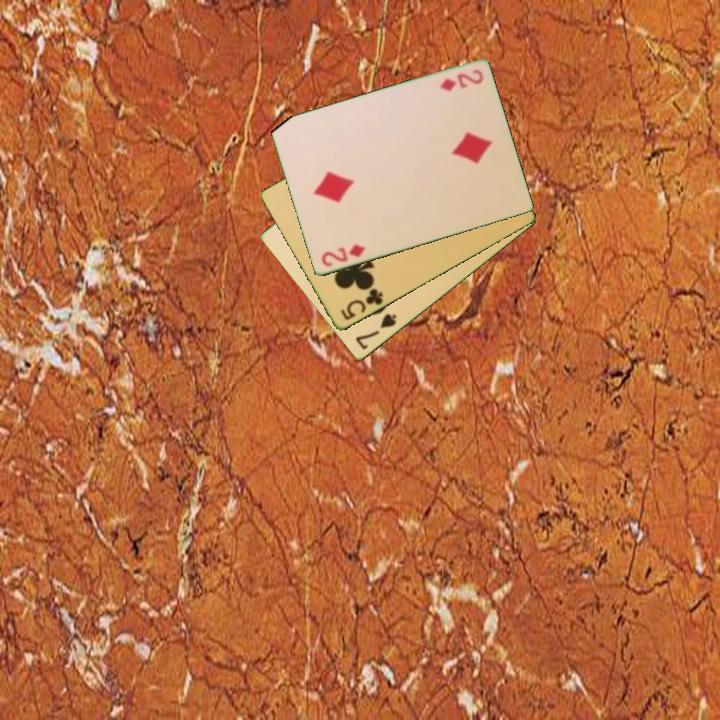2d: (318, 241, 367, 270), (437, 66, 486, 94)
5c: (337, 285, 386, 324)
7s: (352, 310, 399, 353)
